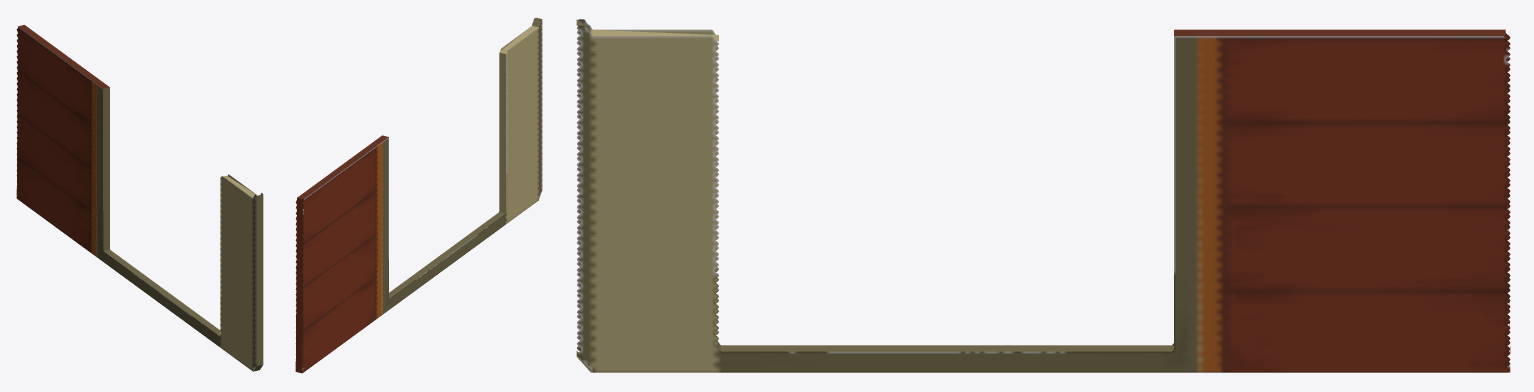
File: pz_native_location_restaurant_spiffos_01_74_frame.obj
The picture shows the model from 3 angles, left to right: view 1: azimuth 30°, elevation 25°; view 2: azimuth 150°, elevation 25°; view 3: azimuth 270°, elevation 25°; orthographic projection. The views are drawn at different scales.
Parts seen in each view (by area): view 1: pz_native_location_restaurant_spiffos_01_74_frame; view 2: pz_native_location_restaurant_spiffos_01_74_frame; view 3: pz_native_location_restaurant_spiffos_01_74_frame.
Part boxes in pixels (x1=…): pz_native_location_restaurant_spiffos_01_74_frame: x1=16, y1=25, x2=263, y2=371; pz_native_location_restaurant_spiffos_01_74_frame: x1=295, y1=17, x2=542, y2=373; pz_native_location_restaurant_spiffos_01_74_frame: x1=576, y1=19, x2=1510, y2=372.
Size of the model in its own units: 0.04 by 1.06 by 2.55.
Materials: 1 (1 with a texture image).
